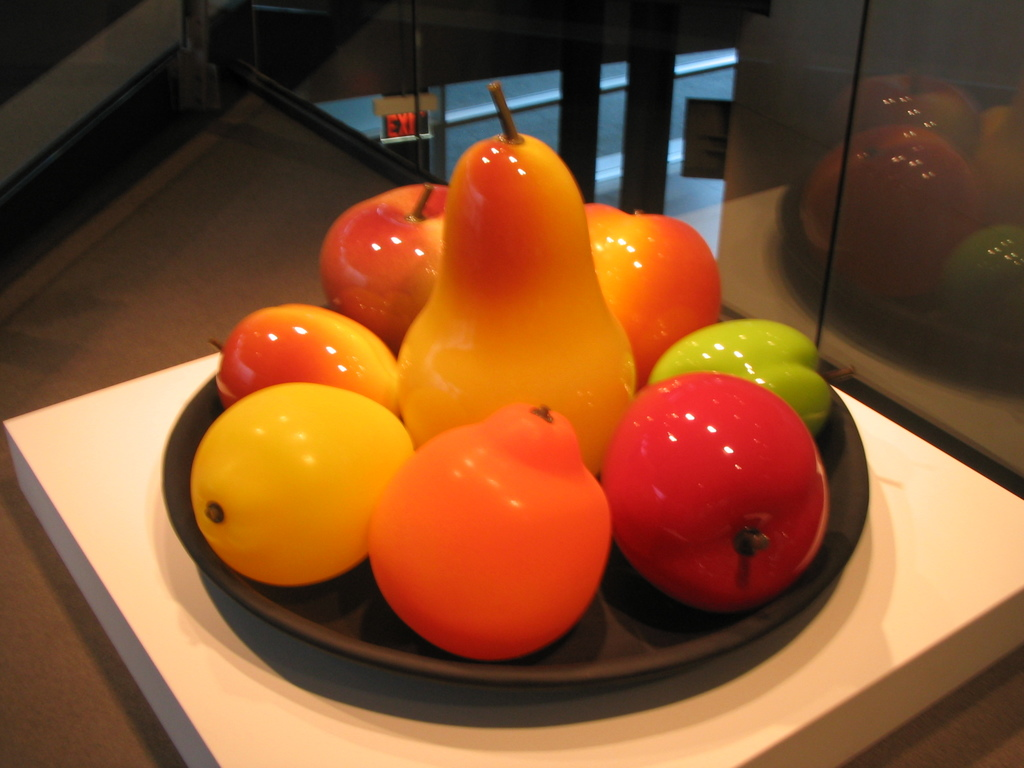Tomato: (599, 369, 830, 618)
